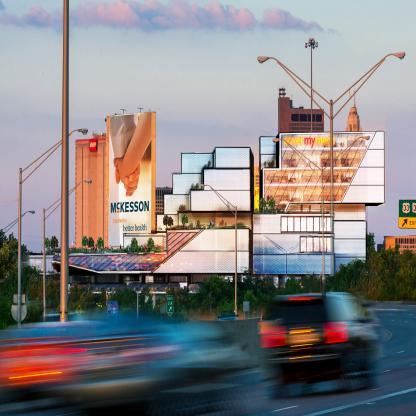Balcony: (170, 224, 252, 232), (54, 249, 167, 254), (255, 209, 332, 213)
Building Outline: (52, 130, 386, 293)
Facade: (51, 130, 386, 293)
Floor Slab: (281, 147, 367, 150), (265, 183, 349, 186), (281, 167, 357, 170), (264, 201, 288, 203)
Glass Wall: (264, 133, 373, 213), (53, 232, 198, 271), (281, 217, 332, 232), (300, 237, 333, 252)
Shop: (283, 134, 335, 149)
